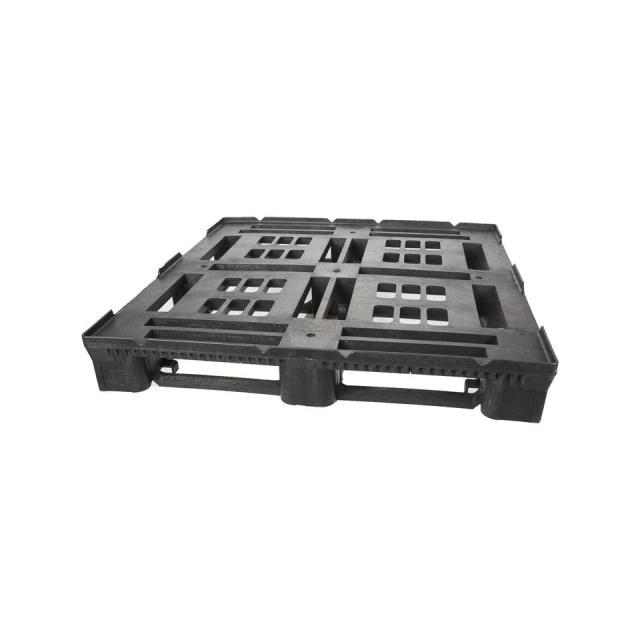non-igps: (70, 199, 568, 435)
